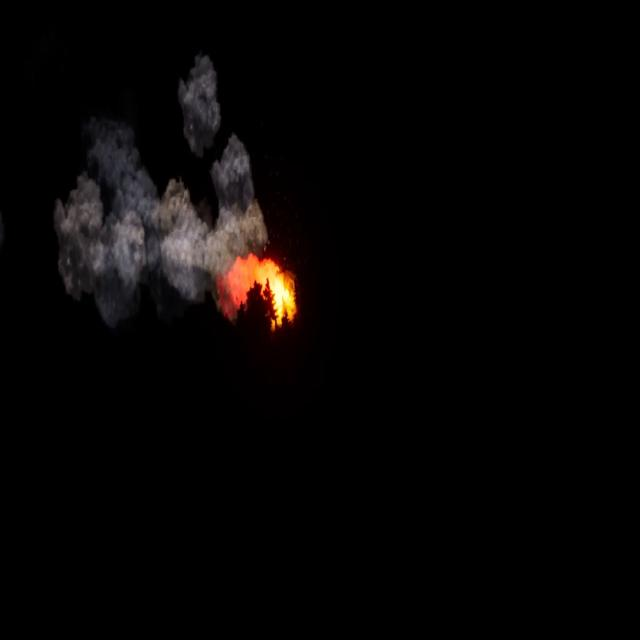fire: (217, 251, 302, 335)
smoke: (49, 47, 269, 315)
